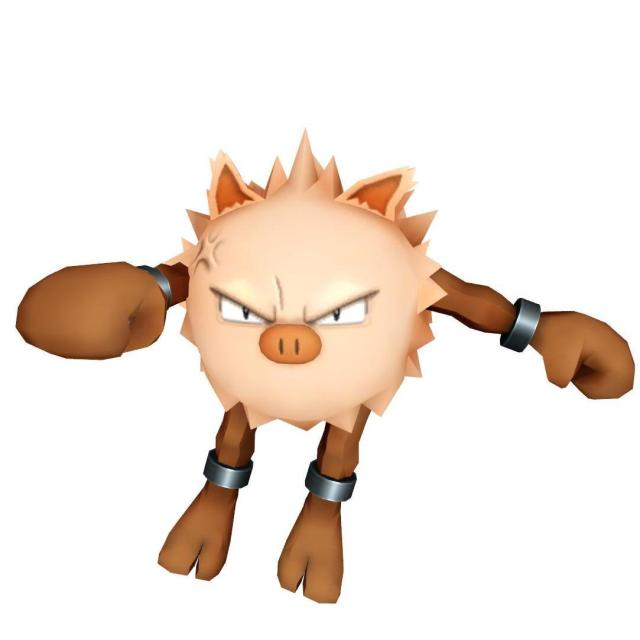Primeape: (113, 163, 532, 505)
